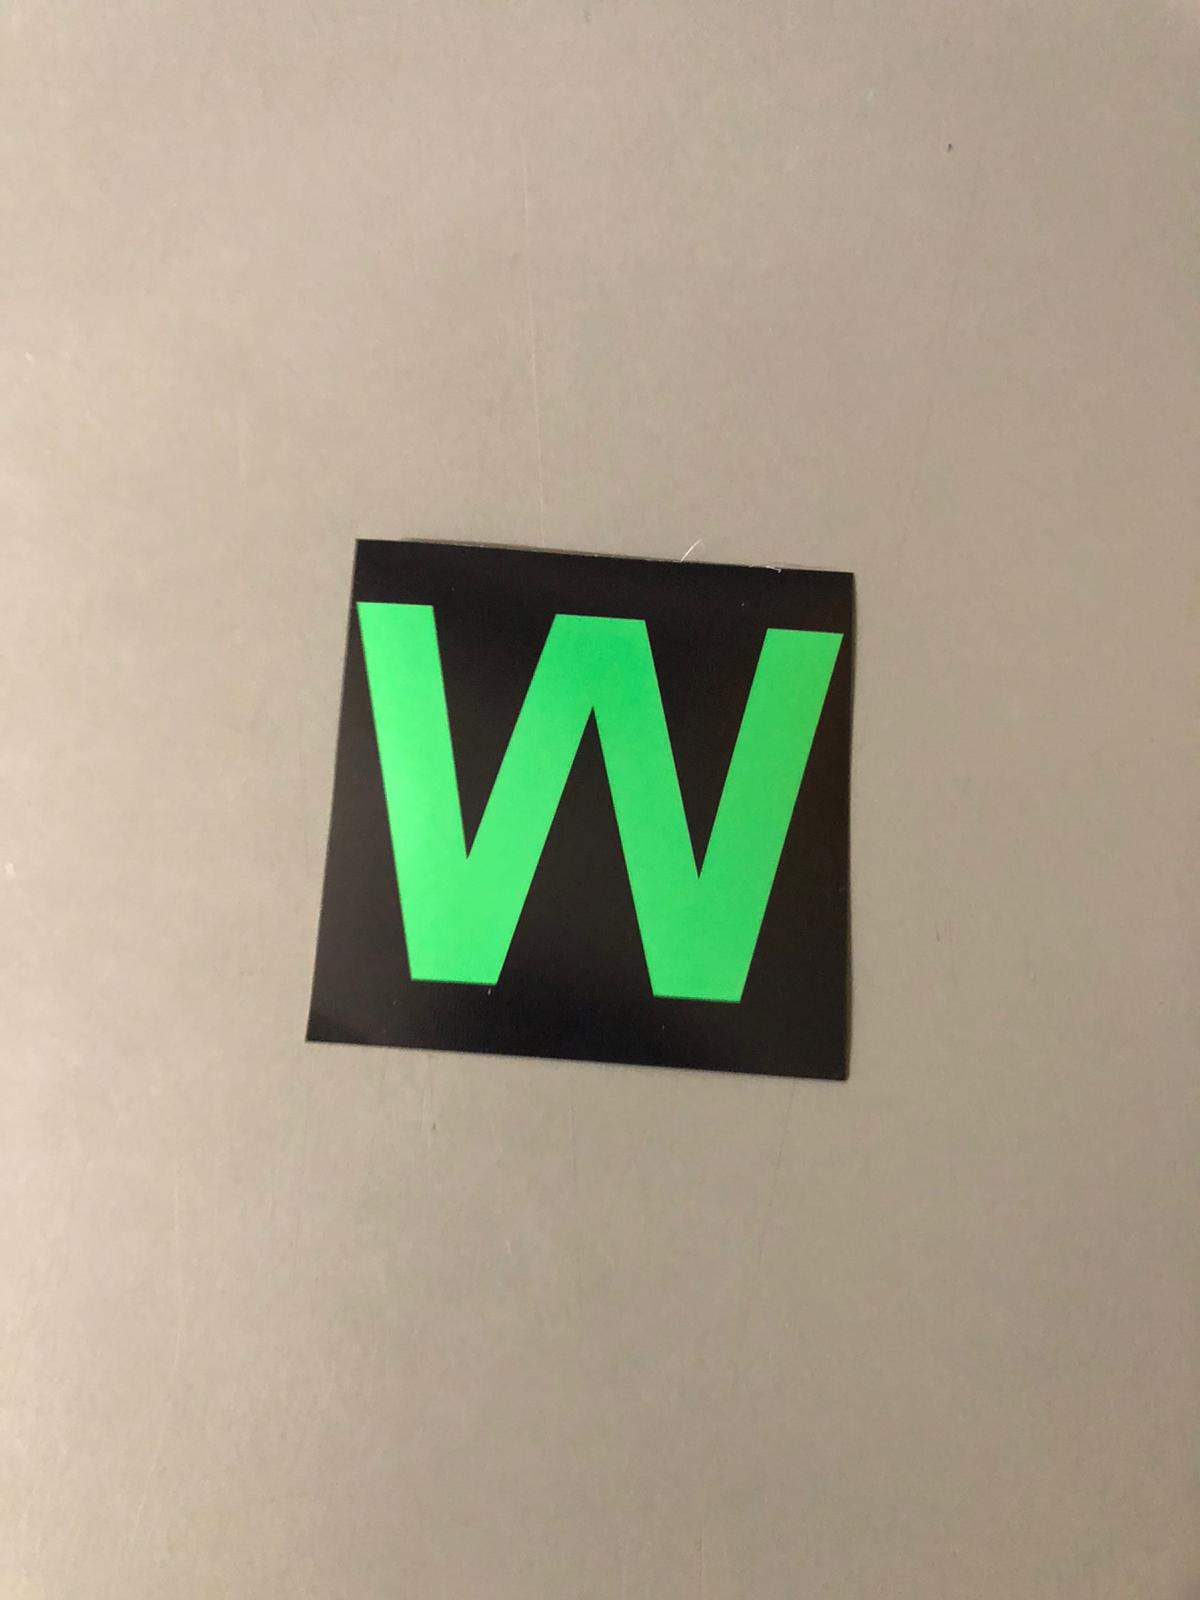W: (345, 553, 865, 1070)
